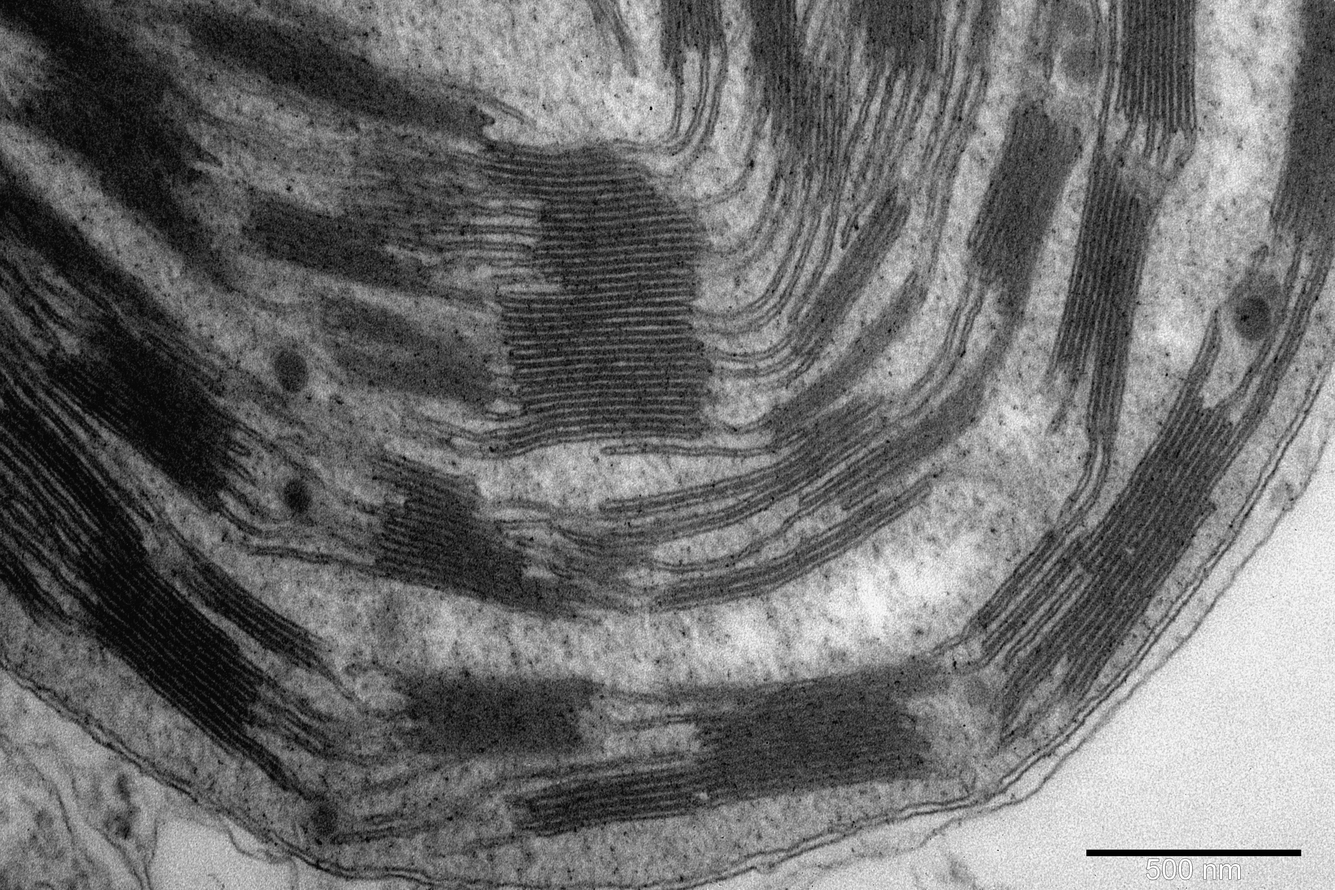granum: (396, 135, 716, 463), (1, 398, 262, 758), (984, 385, 1253, 730), (0, 0, 231, 289), (178, 4, 486, 145), (39, 310, 246, 518), (689, 649, 951, 811), (368, 447, 576, 622), (1046, 157, 1164, 441), (0, 154, 182, 334), (655, 489, 905, 614), (763, 268, 932, 443), (964, 96, 1082, 321), (738, 0, 854, 202), (234, 187, 435, 299), (825, 375, 987, 513), (785, 192, 911, 360), (320, 294, 496, 413), (391, 671, 600, 760), (183, 556, 329, 676), (753, 389, 894, 510), (1270, 0, 1335, 242), (510, 766, 702, 837), (1113, 1, 1199, 133), (848, 0, 950, 75), (0, 541, 65, 625), (658, 0, 728, 72), (963, 0, 1004, 65)
